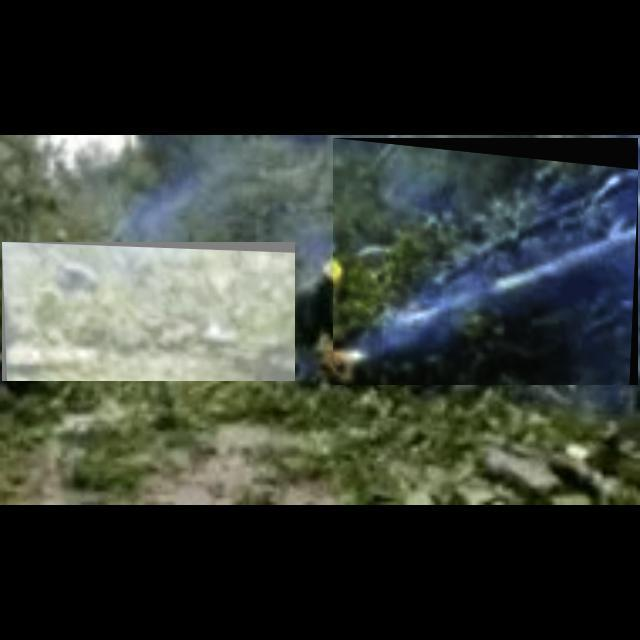fallen_tree: (333, 138, 639, 386), (2, 242, 296, 382)
